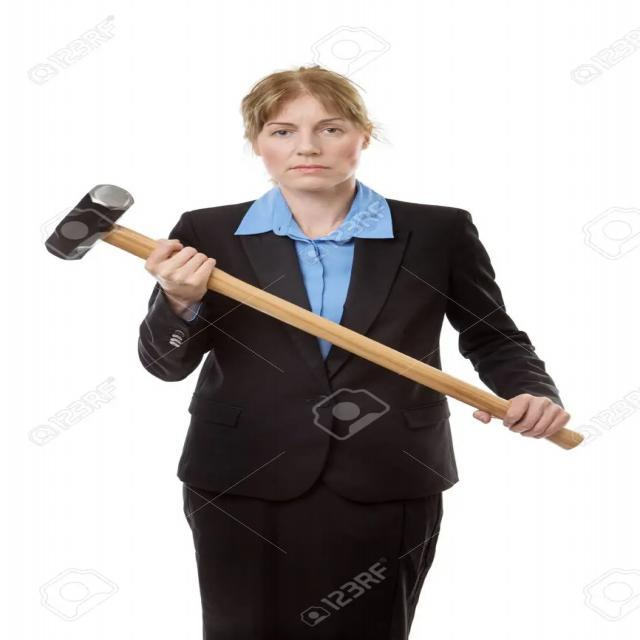hammer: (37, 172, 590, 457)
